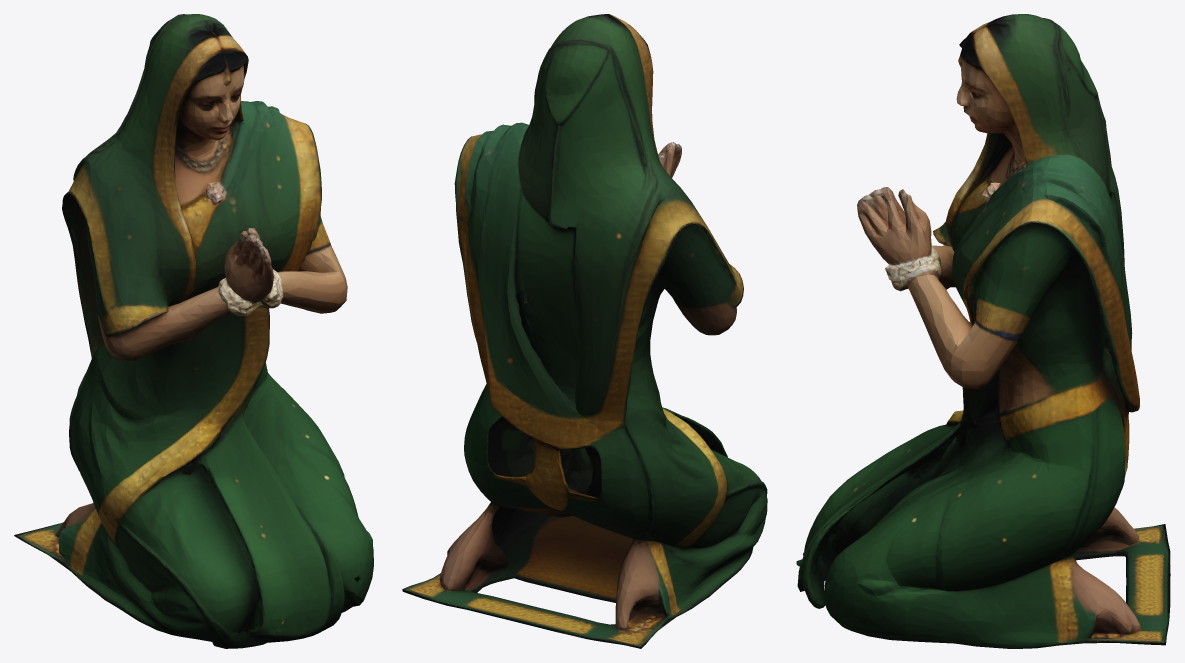
The model's file is woman_sitting_3.glb.
The picture shows the model from 3 angles, left to right: view 1: azimuth 30°, elevation 25°; view 2: azimuth 150°, elevation 25°; view 3: azimuth 270°, elevation 25°; orthographic projection. The views are drawn at different scales.
Visible parts, largest first — view 1: world; view 2: world; view 3: world.
Boxes of the visible parts, bbox=[...] form: world: bbox=[14, 14, 373, 648]; world: bbox=[402, 14, 767, 648]; world: bbox=[796, 14, 1170, 648].
Bounding box in the file's own units: 0.4524 × 0.9992 × 0.5862.
1 material, 1 textured.
